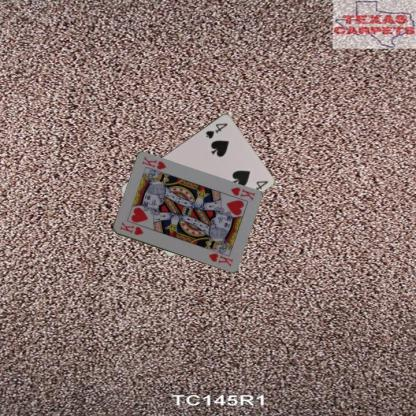4s: (203, 120, 229, 140)
Kh: (227, 185, 256, 202), (118, 219, 144, 236)
